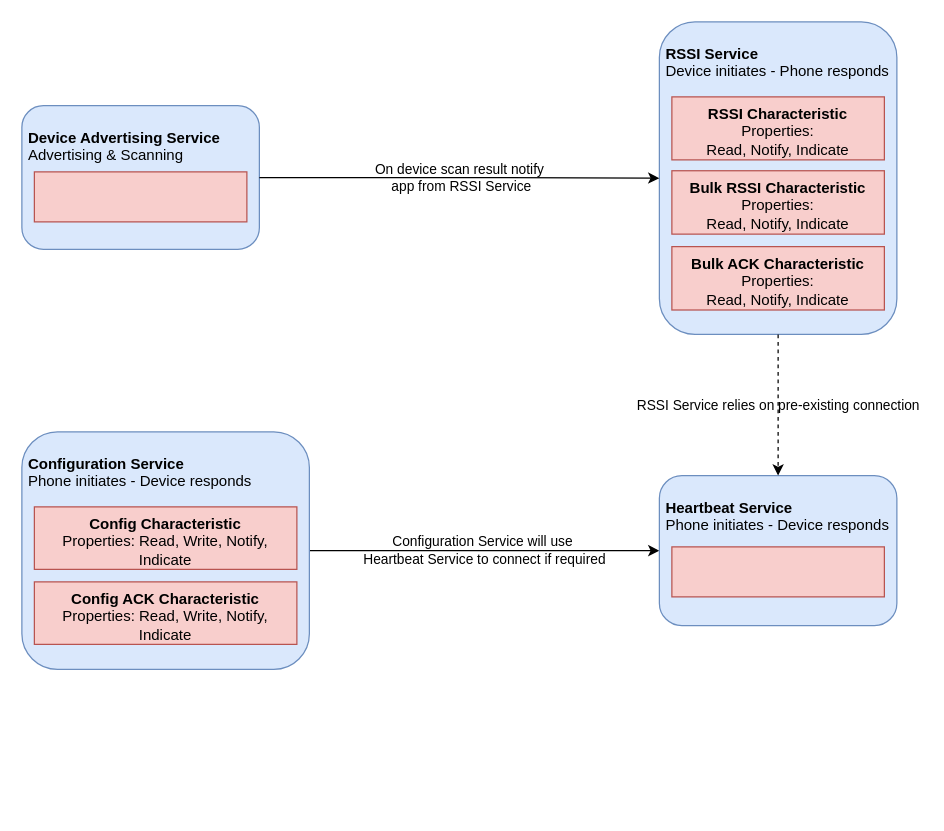
This 944x831 diagram has some shape labels left out. The shapes that lost their labels are listed below. From the top down, each one's centre as x and y in pixels, then its label:
At point (140, 196): "Advertisement Characteristic Properties: None".
At point (777, 571): "Connection Characteristic Properties: Read".
